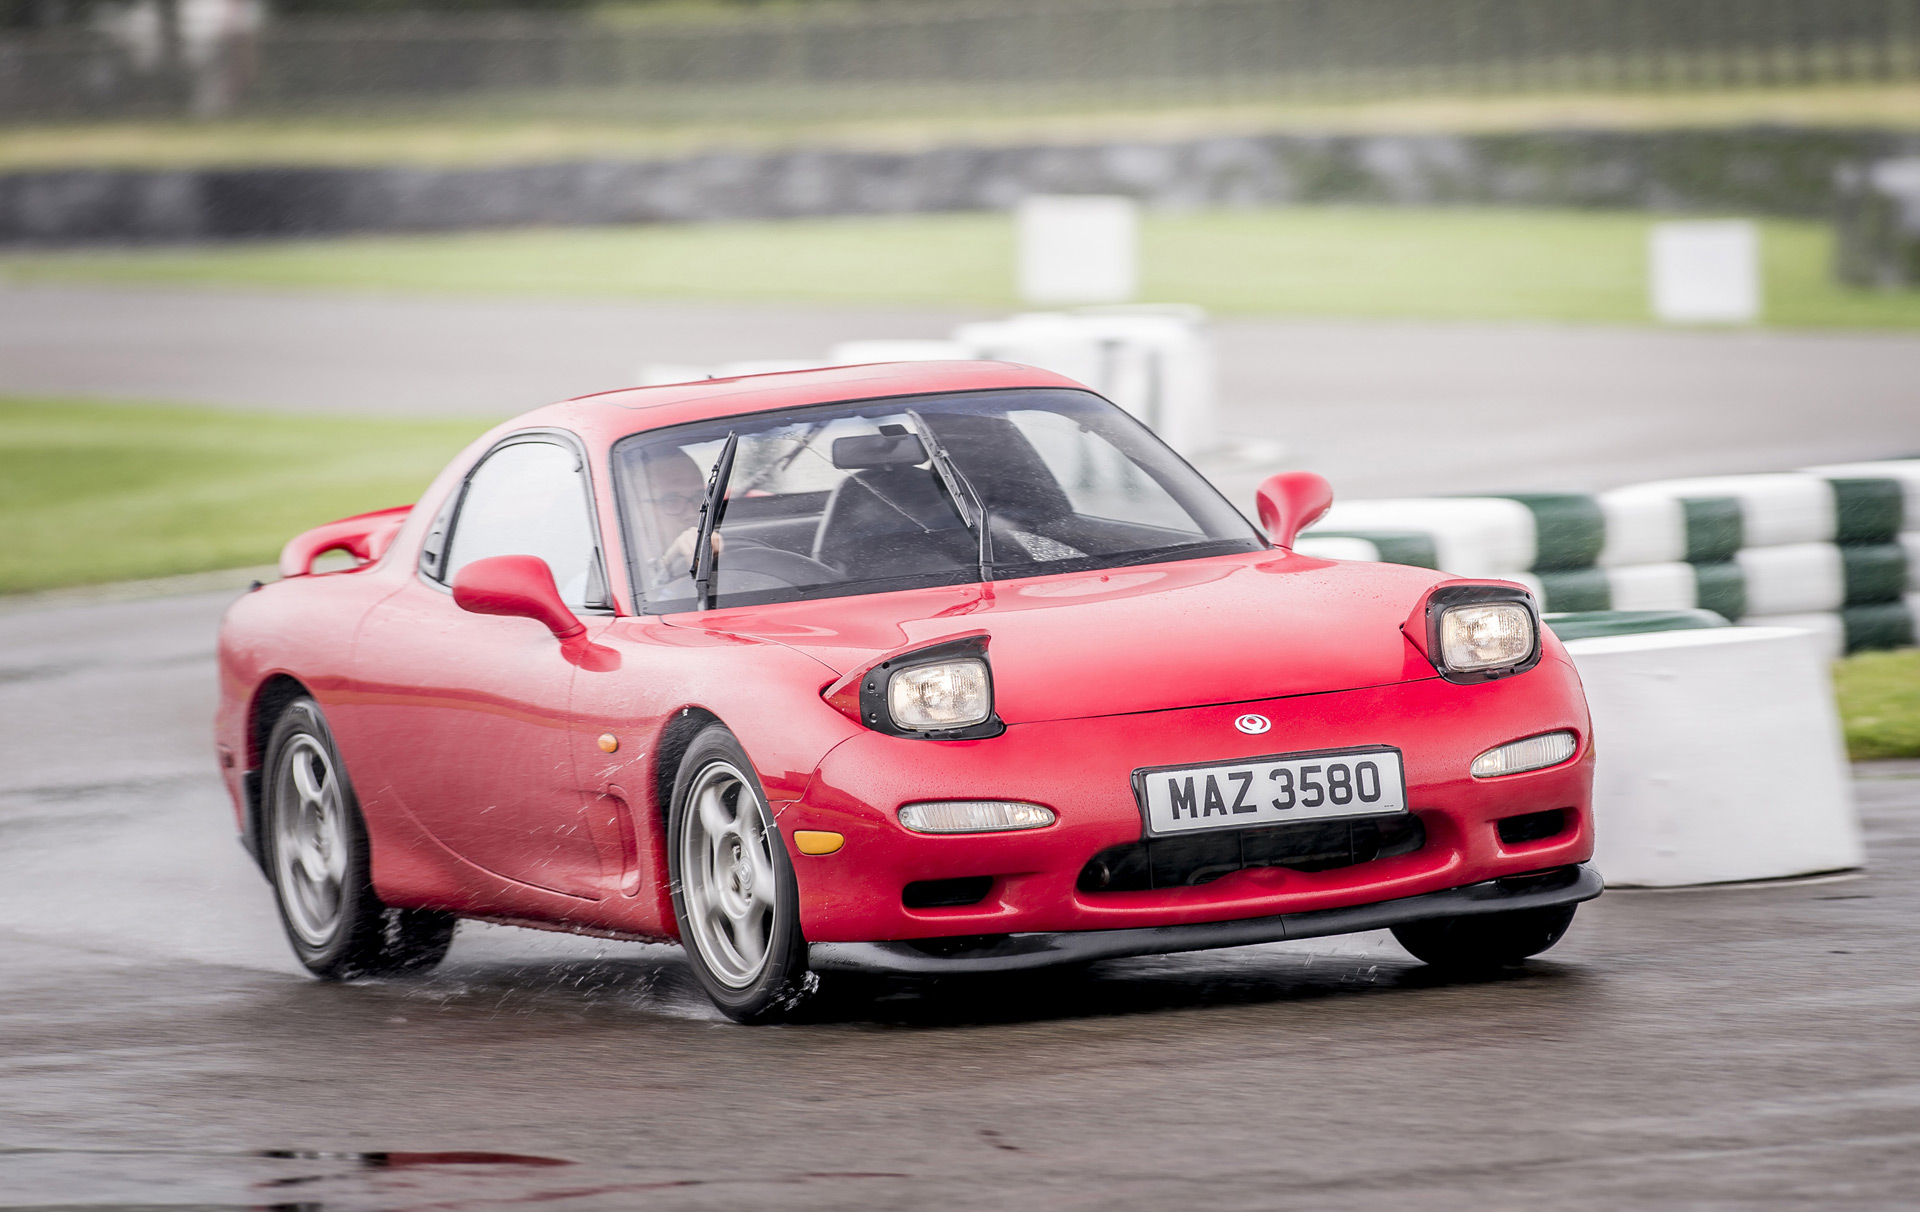plate: (1141, 748, 1408, 839)
